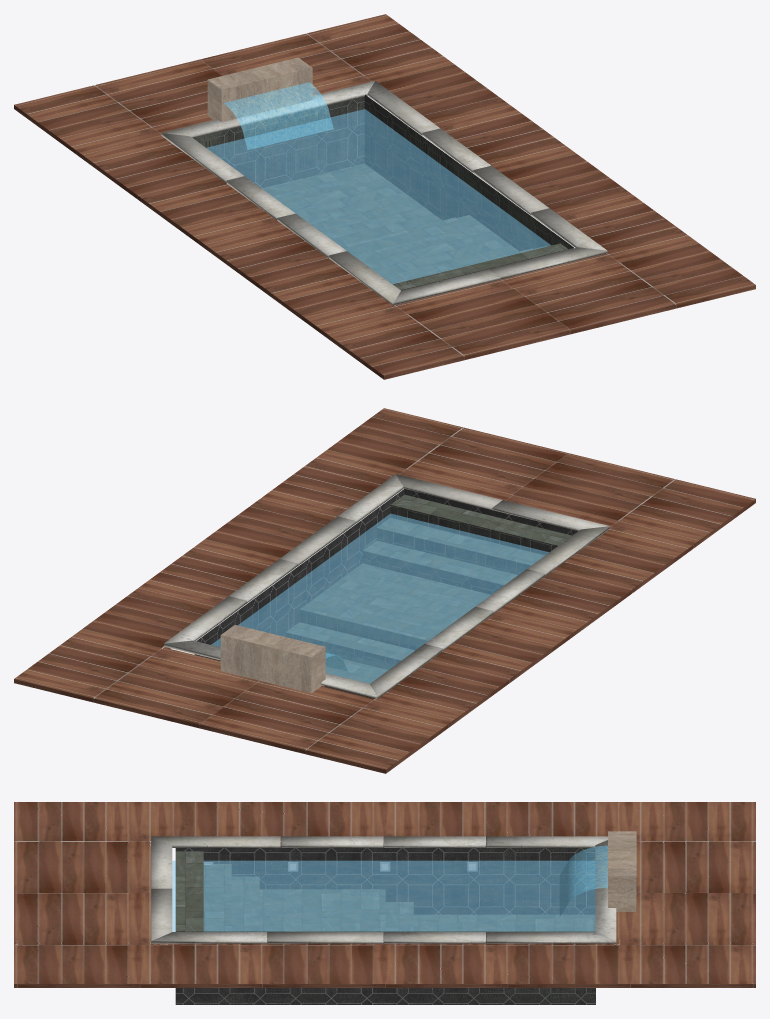
The model's file is exterior_house.glb.
3 renders of one model, top to bottom at view 1: azimuth 30°, elevation 25°; view 2: azimuth 150°, elevation 25°; view 3: azimuth 270°, elevation 25°, orthographic.
Visible parts, largest first — view 1: Pileta_Piso_Exterior_Colorado, agua_superficie, Pileta_Interior_Jade, Pileta_Interior_Dark, Pileta_Borde, Cascada_Marmol, agua_cascada; view 2: Pileta_Piso_Exterior_Colorado, agua_superficie, Pileta_Interior_Jade, Pileta_Interior_Dark, Pileta_Borde, Cascada_Marmol; view 3: Pileta_Piso_Exterior_Colorado, agua_superficie, Pileta_Interior_Dark, Pileta_Interior_Jade, Pileta_Borde, Cascada_Marmol, agua_cascada.
Part boxes in pixels (bbox=[...]): Pileta_Piso_Exterior_Colorado: bbox=[14, 14, 755, 379]; agua_superficie: bbox=[206, 109, 550, 283]; Pileta_Interior_Jade: bbox=[193, 94, 573, 289]; Pileta_Interior_Dark: bbox=[194, 95, 573, 290]; Pileta_Borde: bbox=[161, 81, 607, 305]; Cascada_Marmol: bbox=[207, 57, 312, 121]; agua_cascada: bbox=[224, 82, 333, 149]; Pileta_Piso_Exterior_Colorado: bbox=[14, 408, 755, 773]; agua_superficie: bbox=[211, 513, 548, 683]; Pileta_Interior_Jade: bbox=[211, 491, 577, 697]; Pileta_Interior_Dark: bbox=[194, 489, 577, 698]; Pileta_Borde: bbox=[164, 474, 609, 698]; Cascada_Marmol: bbox=[220, 625, 325, 693]; Pileta_Piso_Exterior_Colorado: bbox=[14, 802, 755, 987]; agua_superficie: bbox=[172, 860, 595, 931]; Pileta_Interior_Dark: bbox=[175, 845, 595, 1004]; Pileta_Interior_Jade: bbox=[175, 846, 595, 1004]; Pileta_Borde: bbox=[151, 836, 616, 943]; Cascada_Marmol: bbox=[608, 831, 636, 911]; agua_cascada: bbox=[559, 845, 607, 916].
Bounding box in the file's own units: 2.3 × 0.6295 × 3.97.
Materials: 14 (13 with a texture image).
